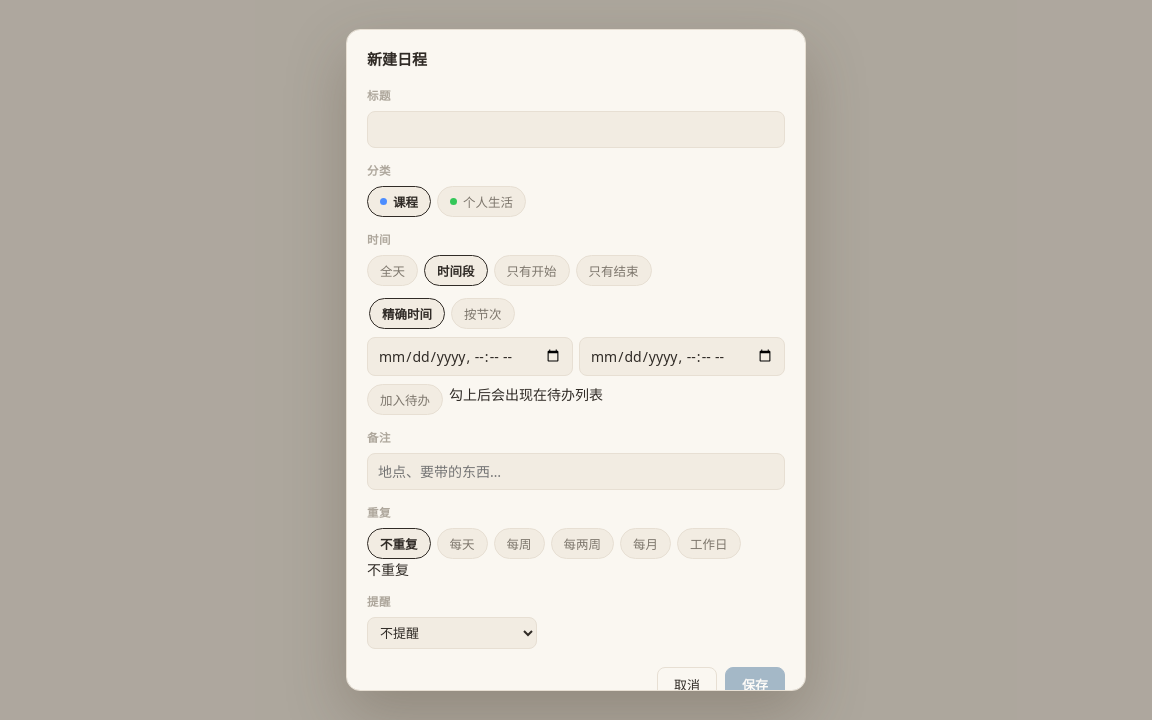
Test case: ScheduleForm · 时间段下的两种填法（T19 修正） › 切到「按节次」后，时间输入消失、换成日期 + 节次
The image size is (1152, 720).
Click the radio button labelled "按节次" at (483, 313), box [451,298,514,329]
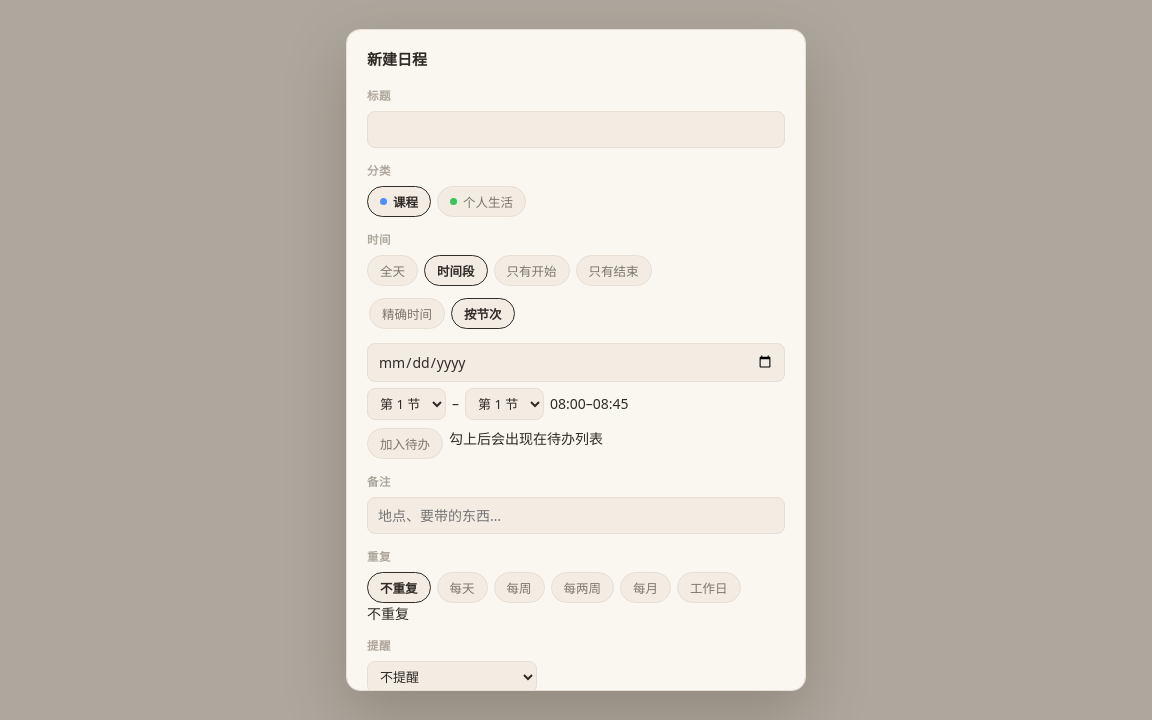
Expected: the date field named "日期" is shown, [367,343,785,382]
Expected: the dropdown named "开始节次" is shown, [367,388,446,420]
Expected: the dropdown named "结束节次" is shown, [465,388,544,420]
